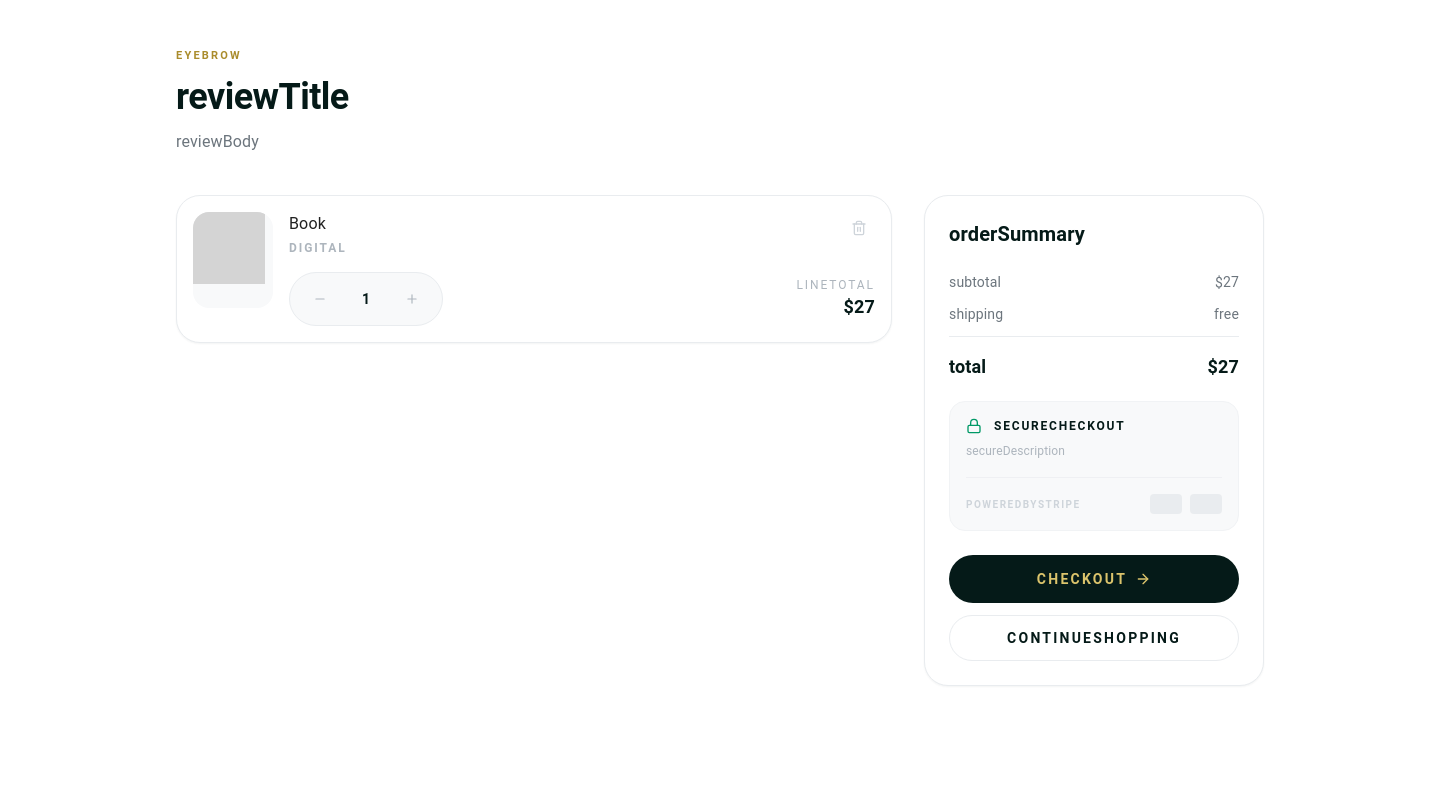
Test: full cart controls › announces the actionable checkout failure
Click the button "checkout" at x=1094, y=579, box [949, 555, 1239, 603]
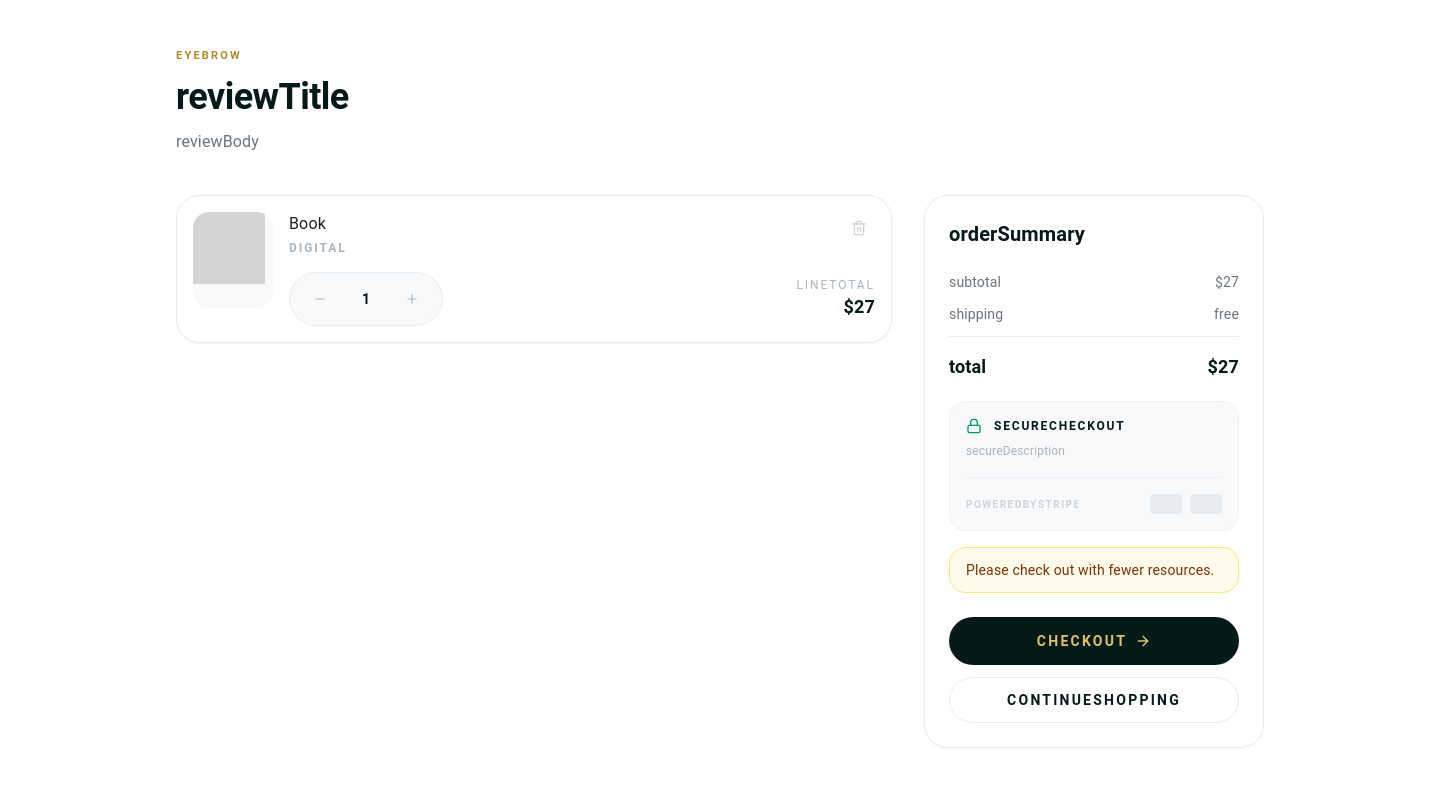
Check: the message reads "Please check out with fewer resources.", box [966, 562, 1214, 578]
